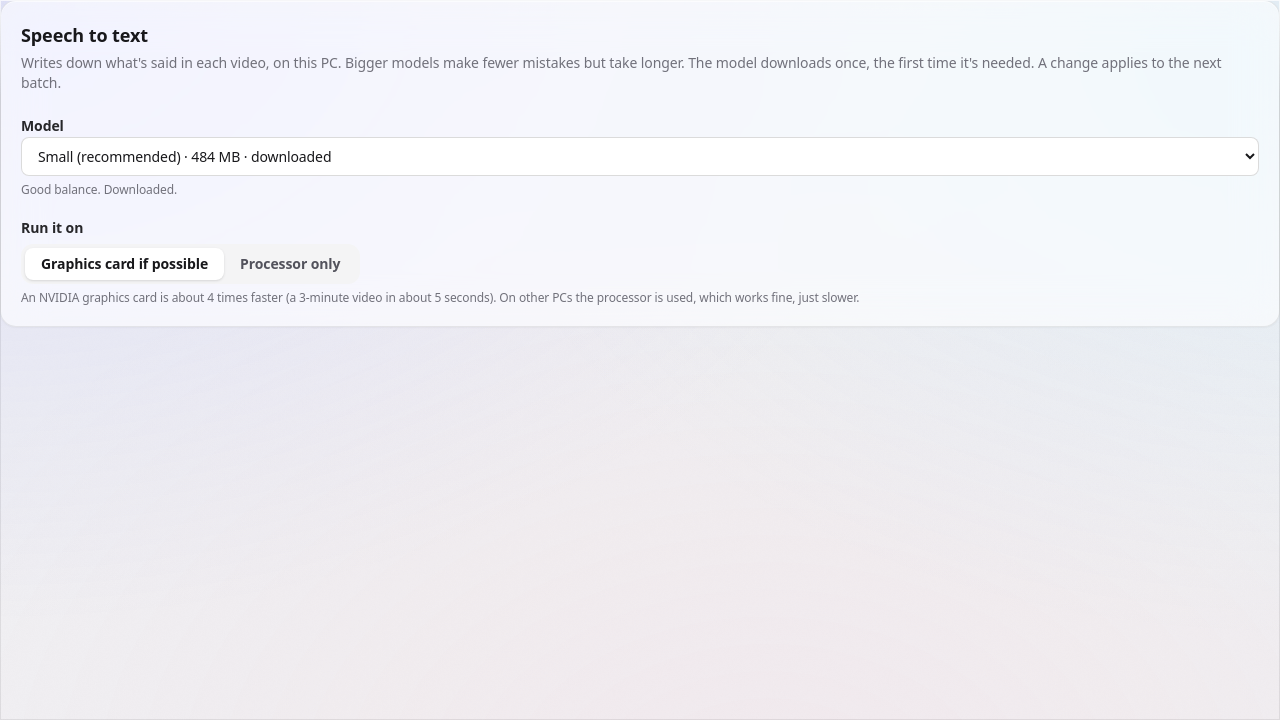
it: the speech settings save the chosen model
The image size is (1280, 720).
Later steps or results of the test are not shown.
Select "Base · 145 MB" in the dropdown named "Speech model": (640, 156) [21,137,1259,176]
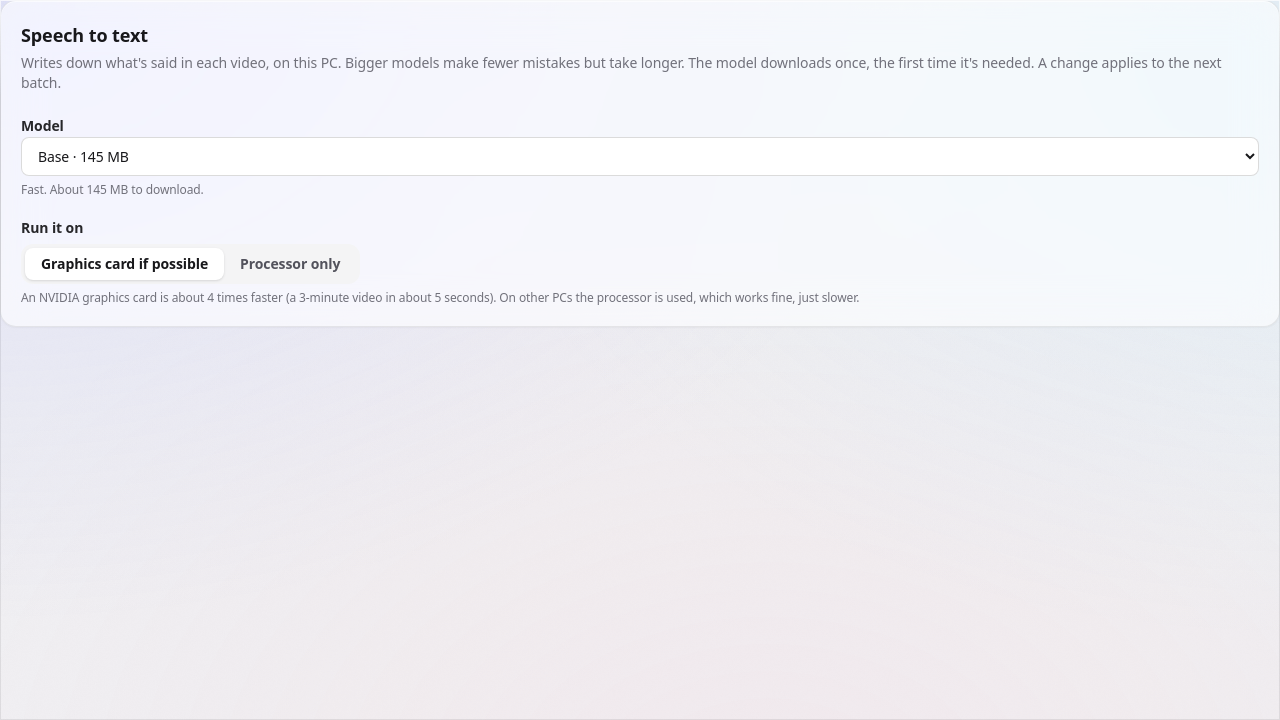
Expected: the text "Fast. About 145 MB to download." is shown, [21,181,204,198]
